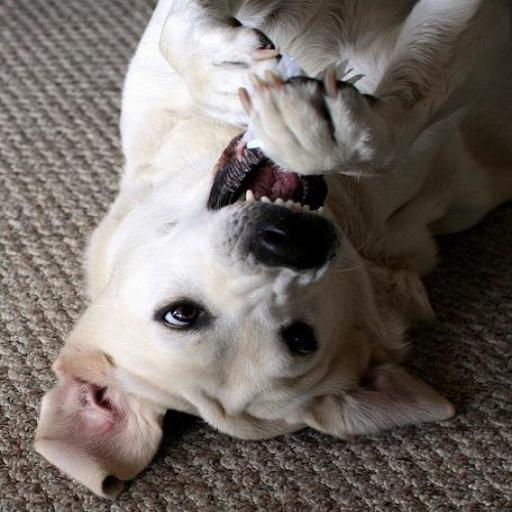dog_face: (102, 136, 427, 462)
